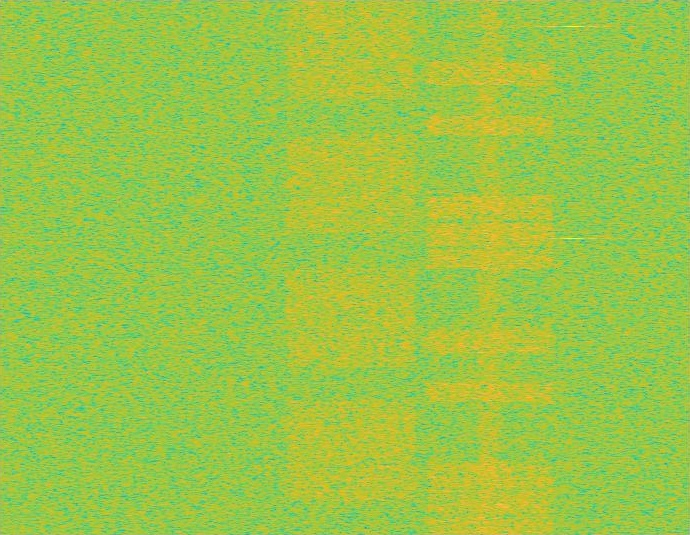5G: (283, 0, 421, 534)
DSSS: (474, 0, 505, 534)
LTE: (421, 0, 559, 534)
Radar: (566, 0, 579, 534)
